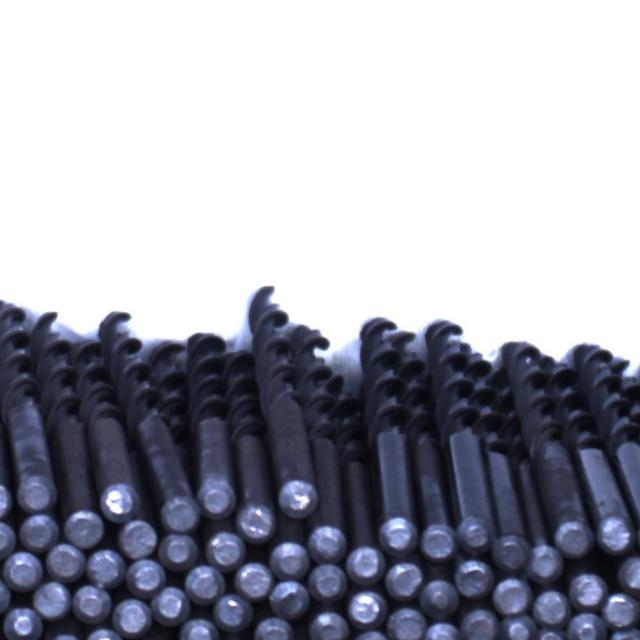tool: (86, 547, 126, 587), (3, 550, 43, 589), (64, 508, 104, 547), (205, 528, 244, 568), (238, 500, 277, 540), (152, 585, 191, 624), (72, 584, 111, 623), (269, 579, 308, 618), (454, 559, 493, 598), (186, 563, 226, 601), (554, 518, 594, 556), (114, 598, 152, 637), (47, 542, 86, 580), (20, 512, 59, 550), (120, 521, 159, 559), (527, 543, 565, 582), (311, 526, 349, 565), (379, 516, 417, 555), (32, 580, 70, 618), (419, 578, 457, 616), (570, 570, 608, 608), (387, 560, 425, 598), (279, 478, 317, 516), (213, 594, 252, 631), (492, 576, 531, 613), (234, 560, 273, 597), (100, 481, 137, 520), (598, 514, 634, 554), (126, 557, 164, 594), (309, 563, 346, 601), (160, 533, 197, 571), (347, 545, 385, 582), (18, 474, 57, 510), (270, 542, 308, 578), (603, 591, 640, 627), (459, 518, 495, 555), (348, 589, 386, 624), (420, 522, 456, 558), (197, 481, 234, 516), (388, 606, 426, 640), (492, 535, 530, 569), (4, 607, 43, 640), (534, 589, 570, 624), (162, 497, 199, 531), (460, 608, 498, 640), (310, 610, 350, 640), (566, 612, 606, 640), (498, 614, 536, 640), (255, 616, 293, 640), (178, 617, 217, 640), (619, 553, 640, 595), (426, 621, 462, 640), (0, 520, 16, 558), (85, 627, 125, 640), (0, 477, 11, 519), (608, 627, 639, 640), (351, 630, 390, 640), (0, 576, 10, 614), (537, 627, 564, 640), (46, 632, 84, 640)
